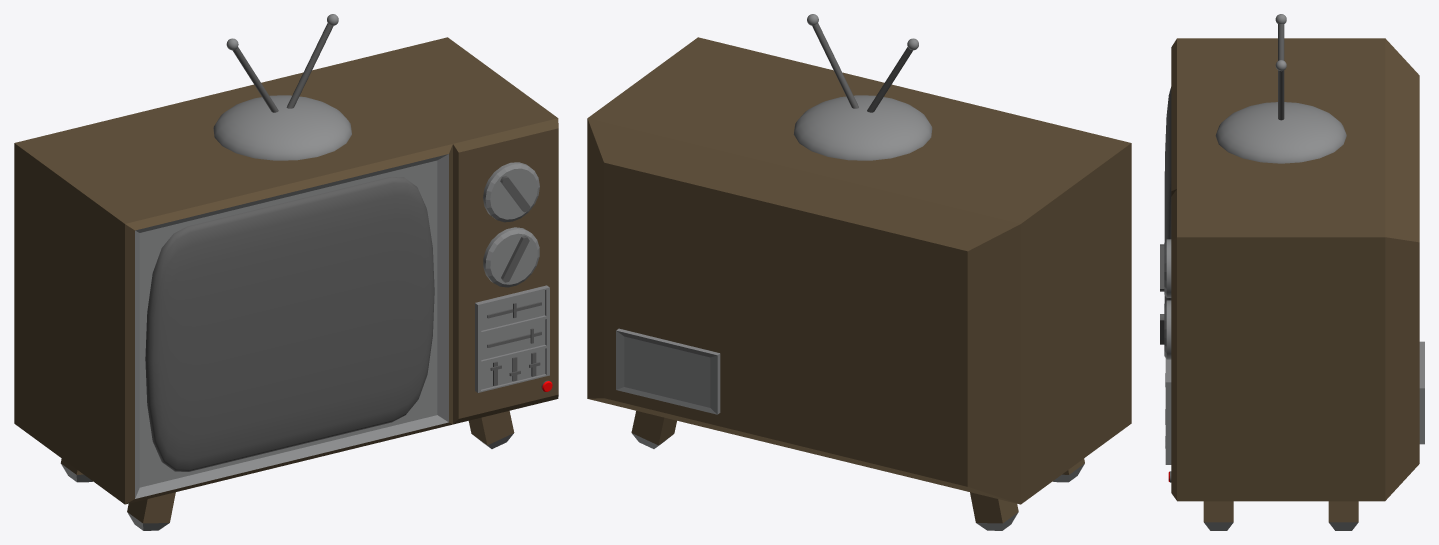
The model's file is Television.fbx.
3 renders of one model, left to right at view 1: azimuth 30°, elevation 25°; view 2: azimuth 150°, elevation 25°; view 3: azimuth 270°, elevation 25°, orthographic. The views are drawn at different scales.
Visible parts, largest first — view 1: TVBase, TVScreen; view 2: TVBase; view 3: TVBase, TVScreen.
Boxes of the visible parts, box(x1,y1,x2,y2) form: TVBase: box(14, 14, 558, 530); TVScreen: box(145, 177, 434, 471); TVBase: box(587, 14, 1131, 530); TVBase: box(1160, 14, 1424, 530); TVScreen: box(1164, 87, 1171, 302).
Bounding box in the file's own units: 226 × 218 × 127.
